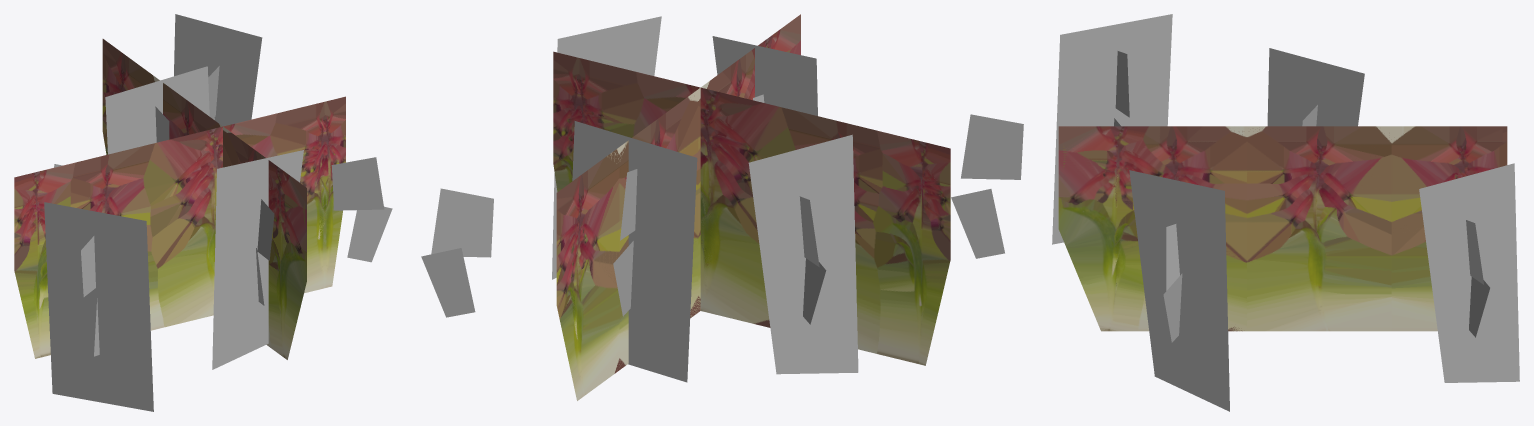
The model's file is Grass1.fbx.
3 views of the same model, side by side, from view 1: azimuth 30°, elevation 25°; view 2: azimuth 150°, elevation 25°; view 3: azimuth 270°, elevation 25° (orthographic). The views are drawn at different scales.
Visible parts, largest first — view 1: LOD0, Billboard; view 2: Billboard, LOD0; view 3: Billboard, LOD0.
Part boxes in pixels (bbox=[...]): LOD0: bbox=[44, 14, 392, 411]; Billboard: bbox=[14, 39, 345, 359]; Billboard: bbox=[553, 14, 950, 400]; LOD0: bbox=[421, 16, 1023, 382]; Billboard: bbox=[1058, 126, 1507, 331]; LOD0: bbox=[1052, 14, 1519, 411].
Size of what is drawn, in the model's own units: 199 by 112 by 213.
